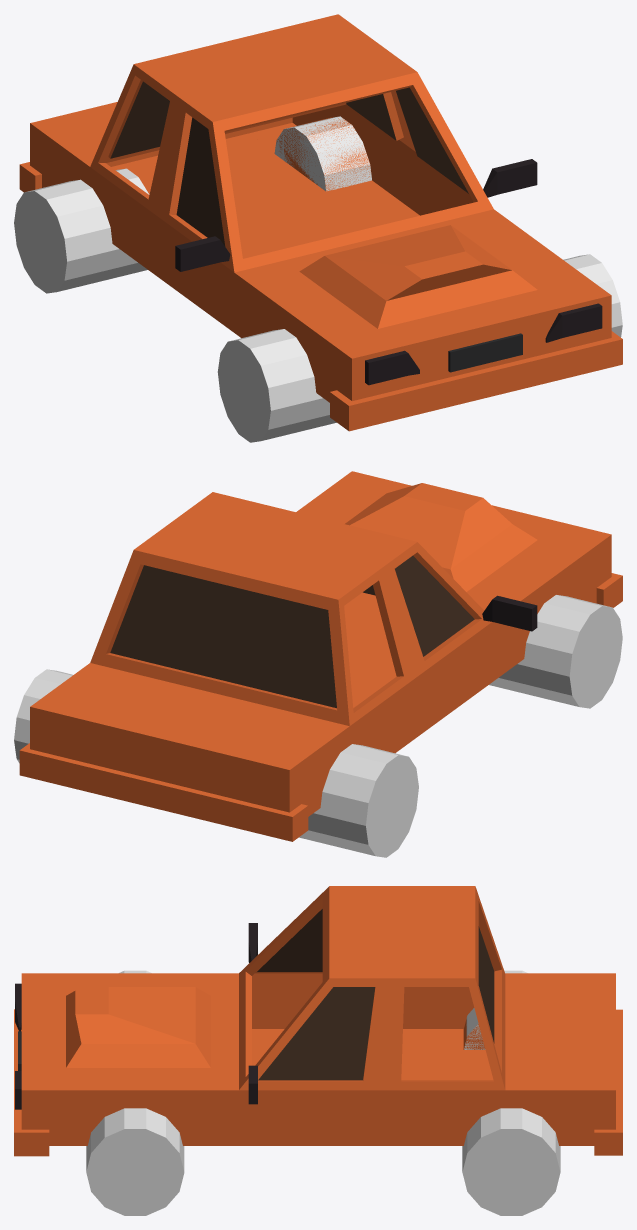
File: Car_low_poly.glb
The picture shows the model from 3 angles, top to bottom: view 1: azimuth 30°, elevation 25°; view 2: azimuth 150°, elevation 25°; view 3: azimuth 270°, elevation 25°; orthographic projection. The views are drawn at different scales.
Visible parts, largest first — view 1: Cube, Cylinder.002, Cylinder, Cube.002, Cube.001, Cube.003; view 2: Cube, Cylinder.002, Cylinder, Cube.002; view 3: Cube, Cylinder.002, Cylinder, Cube.002, Cube.001.
Part boxes in pixels (x1,y1,x2,y2): Cube: (19, 14, 622, 431); Cylinder.002: (14, 116, 371, 293); Cylinder: (217, 254, 622, 442); Cube.002: (175, 159, 537, 271); Cube.001: (365, 303, 602, 385); Cube.003: (448, 333, 522, 372); Cube: (19, 471, 622, 841); Cylinder.002: (14, 669, 418, 857); Cylinder: (489, 595, 622, 708); Cube.002: (482, 595, 537, 631); Cube: (14, 886, 622, 1156); Cylinder.002: (462, 970, 560, 1215); Cylinder: (86, 970, 184, 1215); Cube.002: (248, 923, 257, 1104); Cube.001: (15, 983, 21, 1109).
Bounding box in the file's own units: 2.75 × 1.63 × 4.4.
